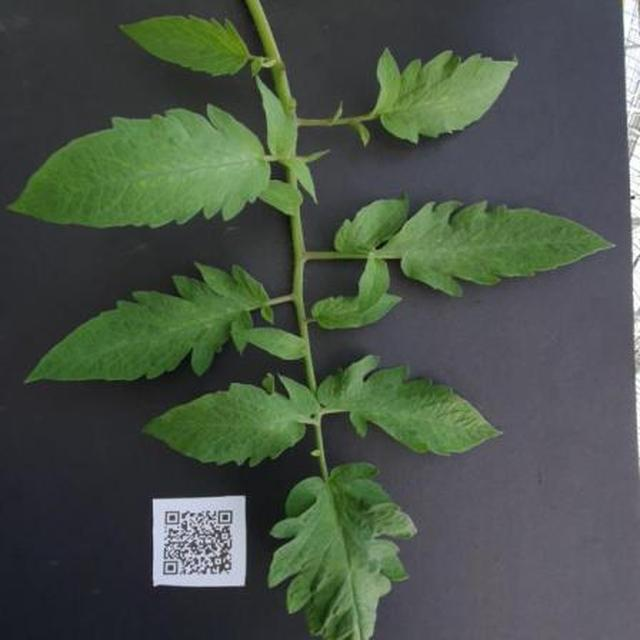Healthy Leaf: (187, 64, 640, 640)
